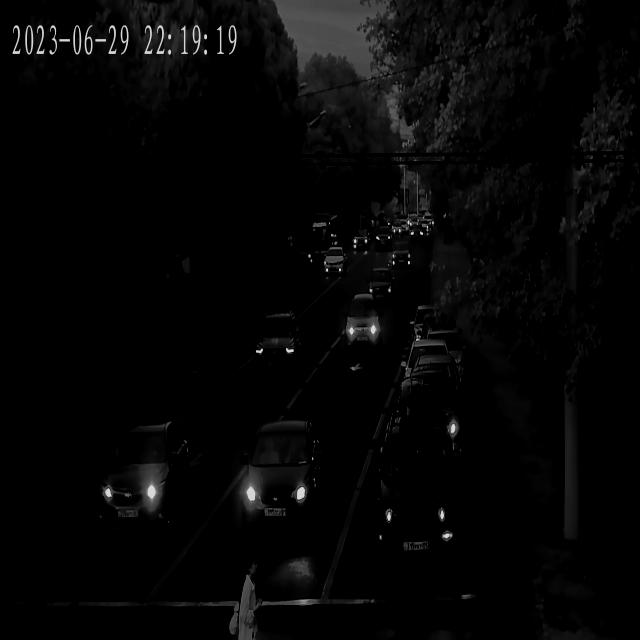Bus: (310, 216, 343, 262)
Car: (375, 385, 466, 597), (89, 421, 192, 538), (238, 423, 324, 540), (382, 374, 462, 474), (248, 314, 307, 383), (400, 362, 464, 422), (400, 340, 458, 391), (340, 299, 382, 358), (419, 330, 467, 376), (413, 309, 451, 347), (366, 270, 398, 308), (322, 250, 346, 278), (389, 247, 413, 270), (374, 231, 393, 252), (352, 234, 368, 252), (392, 220, 408, 236), (410, 228, 426, 243)
